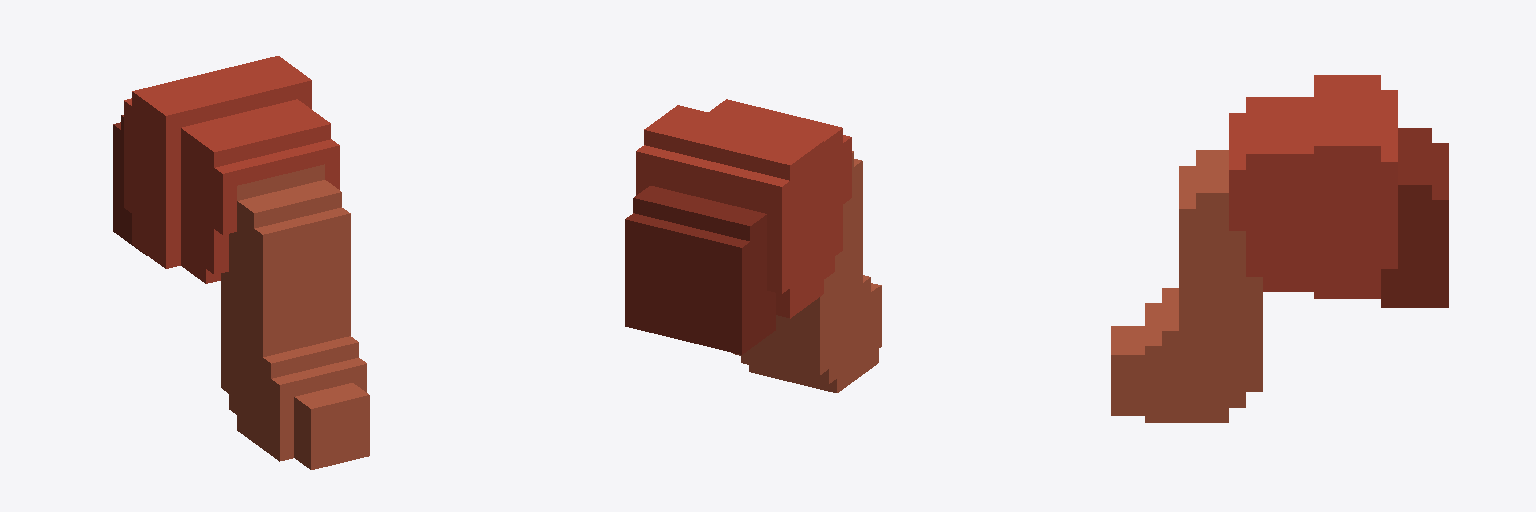
3 views of the same model, side by side, from view 1: azimuth 30°, elevation 25°; view 2: azimuth 150°, elevation 25°; view 3: azimuth 270°, elevation 25° (orthographic).
Parts seen in each view (by area): view 1: object 1; view 2: object 1; view 3: object 1.
Boxes of the visible parts, x1,y1,x2,y2 form: object 1: [113, 56, 369, 469]; object 1: [625, 99, 881, 392]; object 1: [1111, 75, 1448, 422].
Size of the model in its own units: 1 by 1.9 by 2.
1 materials, 1 textured.